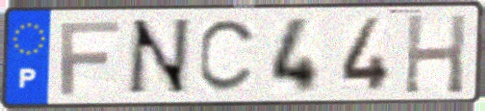4: (267, 15, 326, 96), (337, 15, 394, 95)
C: (195, 17, 261, 96)
F: (57, 18, 122, 97)
H: (401, 12, 470, 96)
N: (122, 16, 194, 99)
